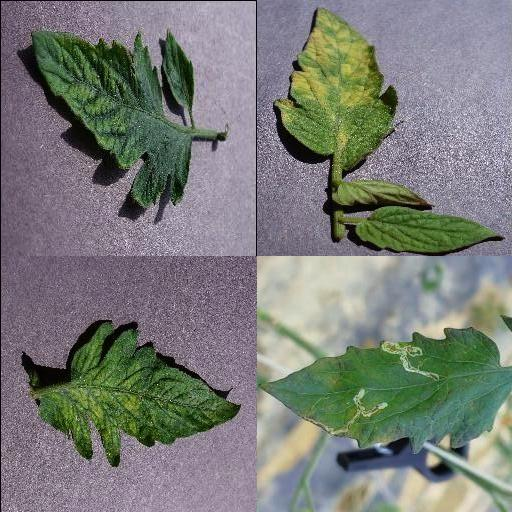Healthy: (357, 207, 506, 256)
Leaf Miner: (257, 327, 512, 456)
Leaf Mold: (273, 4, 406, 172)
Mosaic Virus: (34, 319, 242, 469), (28, 27, 196, 211)
